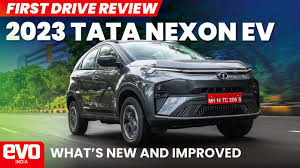Tata Nexon: (64, 38, 262, 146)
